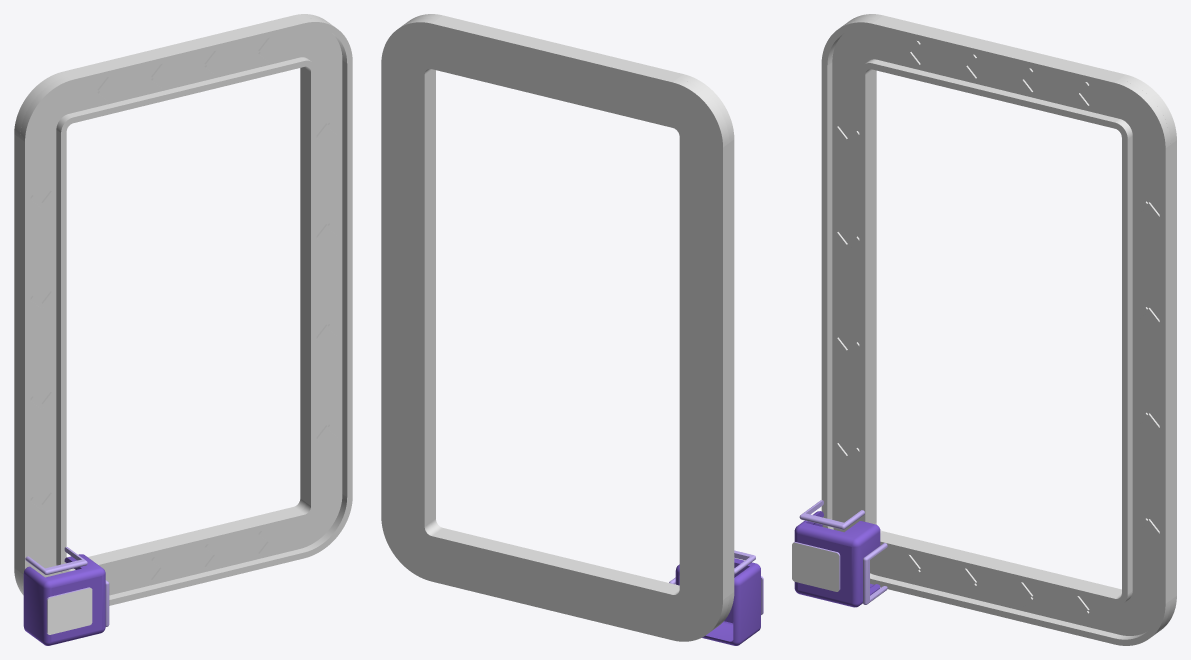
Rendered from azaldı.fbx.
3 renders of one model, left to right at view 1: azimuth 30°, elevation 25°; view 2: azimuth 150°, elevation 25°; view 3: azimuth 330°, elevation 25°, orthographic. The views are drawn at different scales.
Visible parts, largest first — view 1: Belt_Left, Belt_Right, Belt_Top, Belt_Bottom, Machine_Housing_With_Visible_Panel, RailOuter_Right, RailInner_Right, RailInner_Left, RailOuter_Left, RailOuter_Top, RailInner_Top, RailInner_Bottom (+8 smaller); view 2: Belt_Left, Belt_Right, Belt_Bottom, Belt_Top, Machine_Housing_With_Visible_Panel, Belt_Corner_TL, RailOuter_Left, RailInner_Right, Belt_Corner_BL, Belt_Corner_TR, Belt_Corner_BR, RailOuter_Top (+2 smaller); view 3: Belt_Left, Belt_Right, Belt_Top, Belt_Bottom, Machine_Housing_With_Visible_Panel, RailOuter_Right, RailOuter_Left, RailInner_Left, RailInner_Right, RailOuter_Top, RailInner_Top, RailInner_Bottom (+9 smaller).
Boxes of the visible parts, x1,y1,x2,y2 form: Belt_Left: [14, 130, 56, 571]; Belt_Right: [300, 60, 342, 501]; Belt_Top: [63, 15, 299, 113]; Belt_Bottom: [88, 507, 299, 595]; Machine_Housing_With_Visible_Panel: [23, 554, 105, 645]; RailOuter_Right: [342, 60, 352, 497]; RailInner_Right: [306, 69, 316, 505]; RailInner_Left: [56, 130, 66, 564]; RailOuter_Left: [20, 139, 30, 574]; RailOuter_Top: [69, 20, 304, 85]; RailInner_Top: [69, 57, 304, 122]; RailInner_Bottom: [71, 511, 304, 570]; Belt_Left: [679, 137, 729, 599]; Belt_Right: [381, 64, 431, 526]; Belt_Bottom: [431, 531, 678, 640]; Belt_Top: [431, 19, 677, 127]; Machine_Housing_With_Visible_Panel: [675, 558, 763, 645]; Belt_Corner_TL: [672, 78, 729, 147]; RailOuter_Left: [729, 139, 734, 595]; RailInner_Right: [430, 69, 435, 521]; Belt_Corner_BL: [672, 589, 729, 641]; Belt_Corner_TR: [381, 17, 437, 74]; Belt_Corner_BR: [381, 516, 437, 581]; RailOuter_Top: [438, 15, 683, 77]; Belt_Left: [832, 62, 876, 523]; Belt_Right: [1132, 135, 1176, 599]; Belt_Top: [877, 15, 1125, 118]; Belt_Bottom: [877, 531, 1121, 634]; Machine_Housing_With_Visible_Panel: [792, 511, 880, 607]; RailOuter_Right: [1159, 145, 1170, 603]; RailOuter_Left: [821, 62, 832, 518]; RailInner_Left: [859, 71, 870, 522]; RailInner_Right: [1122, 136, 1132, 594]; RailOuter_Top: [872, 20, 1119, 88]; RailInner_Top: [872, 60, 1118, 128]; RailInner_Bottom: [880, 536, 1119, 604].
Size of the model in its own units: 1062 by 1650 by 201.
